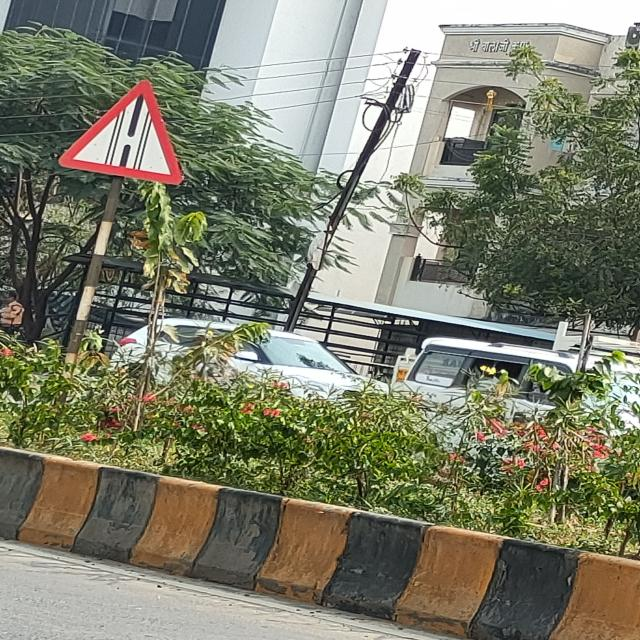ferry: (56, 77, 182, 192)
